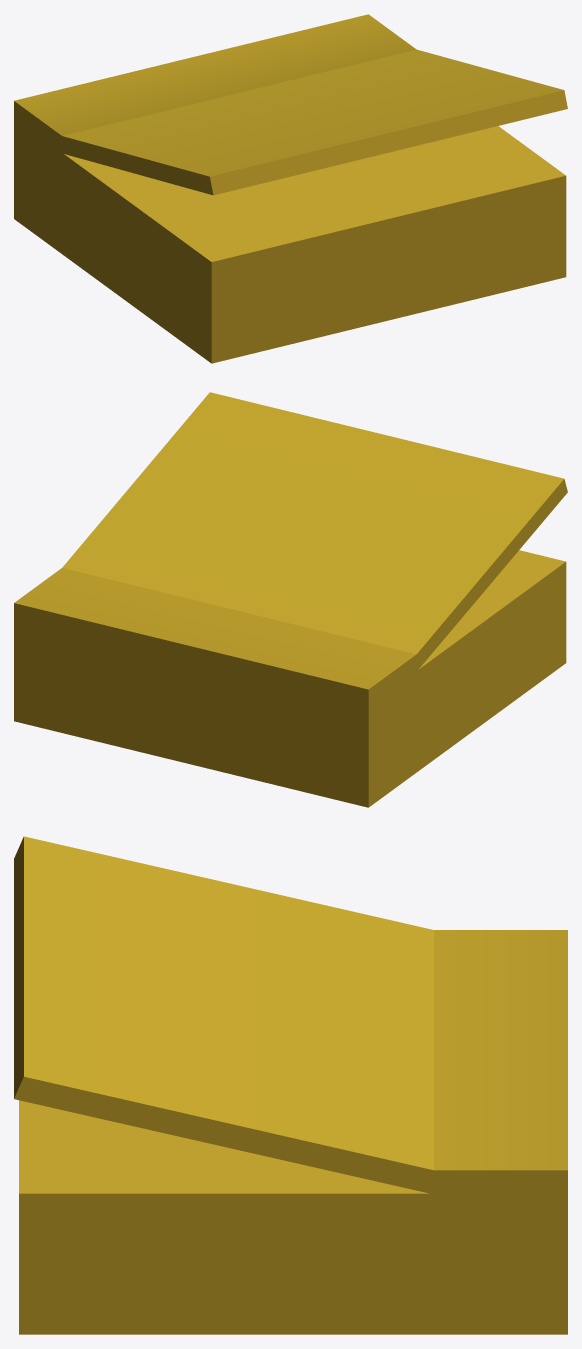
Rendered from SO_StickyNotesPack_01.fbx.
3 renders of one model, top to bottom at view 1: azimuth 30°, elevation 25°; view 2: azimuth 150°, elevation 25°; view 3: azimuth 270°, elevation 25°, orthographic. The views are drawn at different scales.
Visible parts, largest first — view 1: SO_StickyNotesPack_01; view 2: SO_StickyNotesPack_01; view 3: SO_StickyNotesPack_01.
Boxes of the visible parts, x1=… form: SO_StickyNotesPack_01: x1=14, y1=14, x2=567, y2=363; SO_StickyNotesPack_01: x1=14, y1=392, x2=567, y2=807; SO_StickyNotesPack_01: x1=14, y1=836, x2=567, y2=1334.
Size of the model in its own units: 0.195 by 0.0976 by 0.19.
